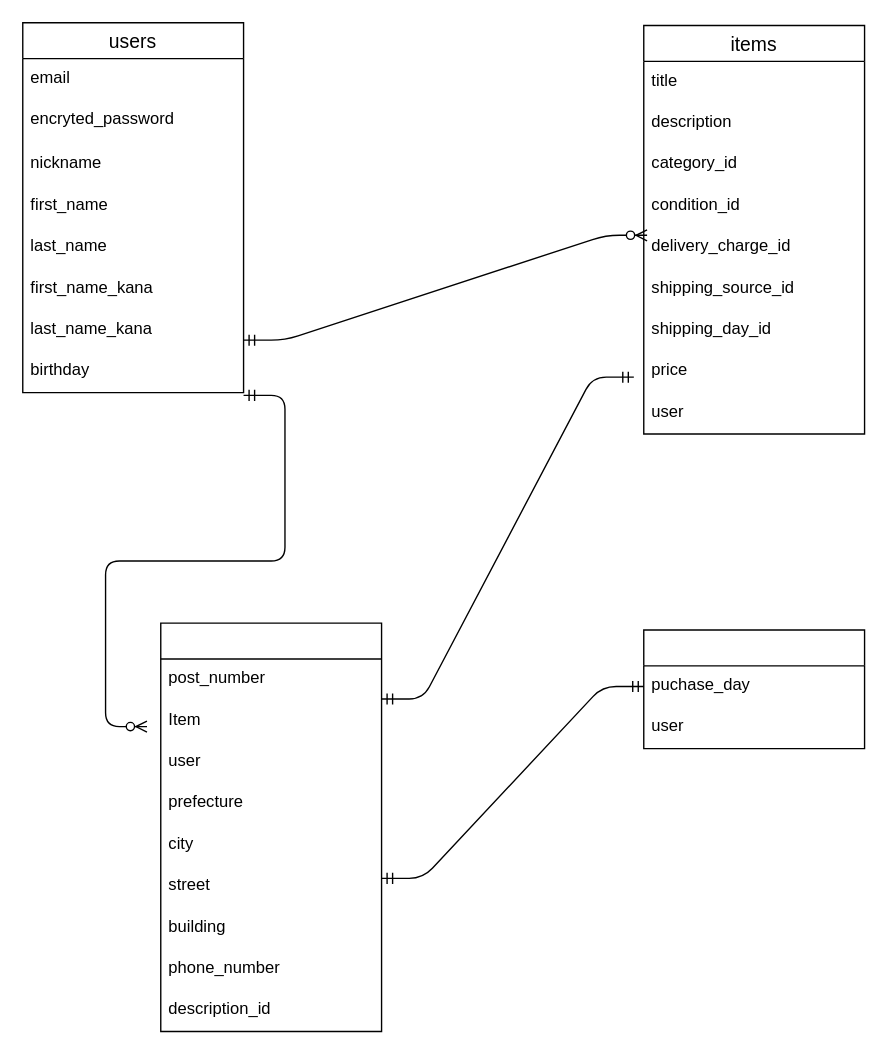
This 887x1054 diagram has some shape labels left out. Here are the shapes that lost their labels. From the top down, the box of each, then its label:
(642, 629, 865, 749): purchases
(159, 622, 382, 1032): shippings
